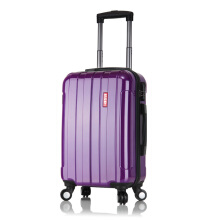luggage: (60, 9, 148, 205)
